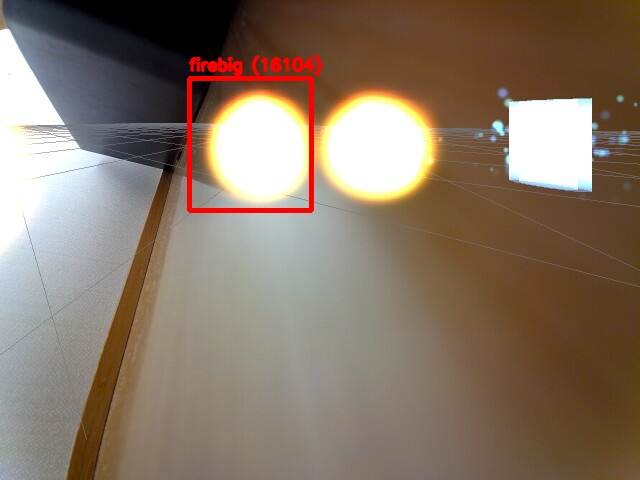firebig: (189, 78, 311, 210)
